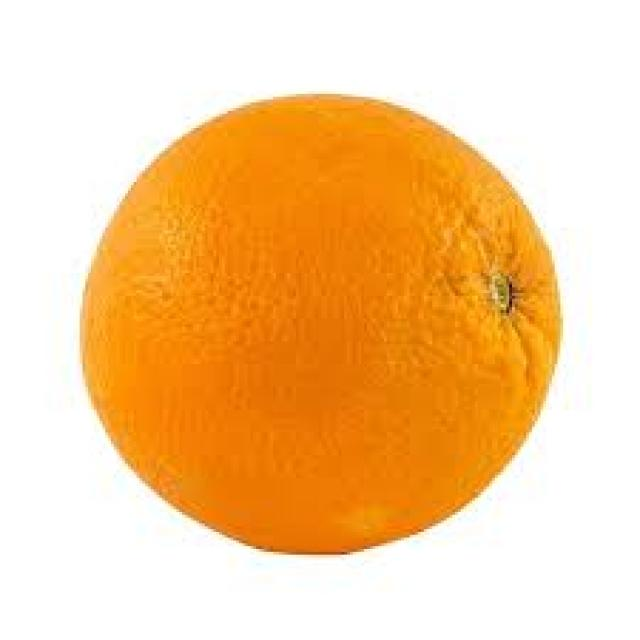Orange: (75, 95, 563, 555)
